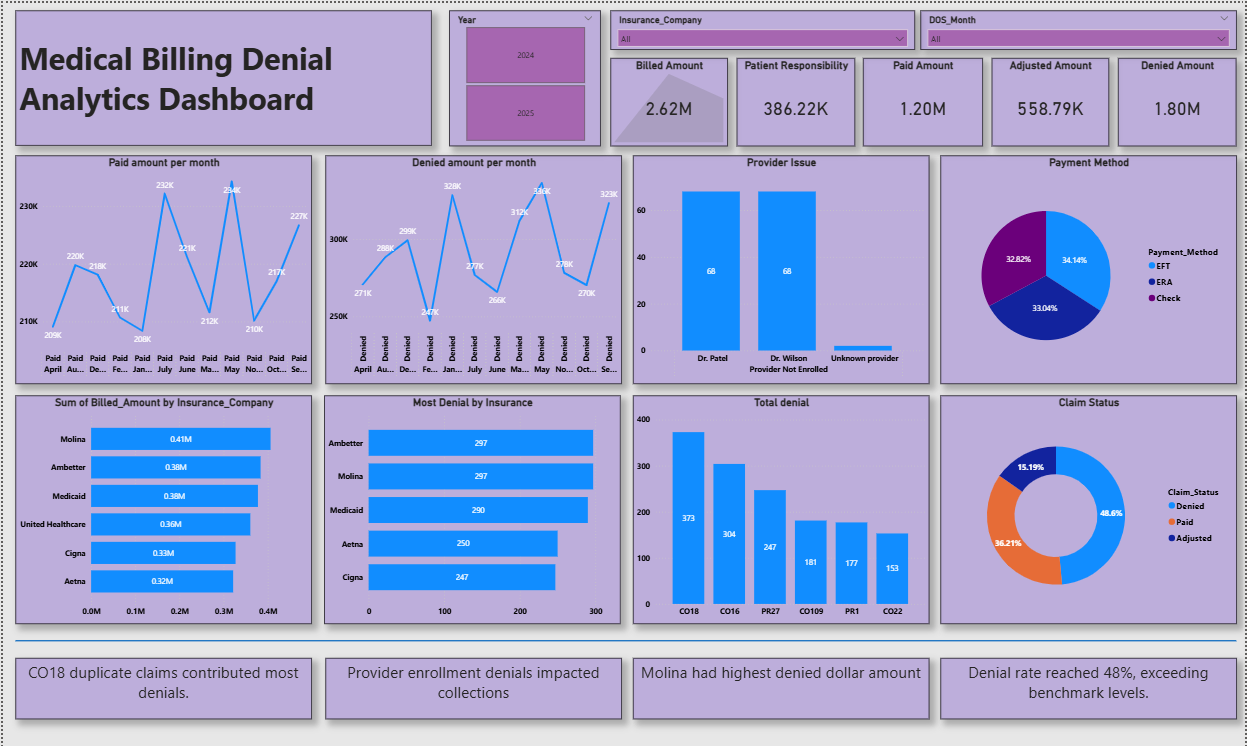

This screenshot's page, from the dashboard's own definition file:
{"tool":"powerbi","page":{"name":"Page 1","canvas":[1950,1170],"ordinal":0},"visuals":[{"type":"donutChart","title":"Claim Status","fields":{"Category":["Sheet1.Claim_Status"],"Y":["CountNonNull(Sheet1.Account_Number)"]},"box":[1470,615,465,358.3],"z":0},{"type":"columnChart","title":"Total denial","fields":{"Y":["CountNonNull(Sheet1.Account_Number)"],"Category":["Sheet1.Denial_Code"]},"box":[988.3,615,465,358.3],"z":1000},{"type":"barChart","title":"Most Denial by Insurance","fields":{"Category":["Sheet1.Insurance_Company"],"Y":["CountNonNull(Sheet1.Denial_Code)"]},"box":[503.3,615,465,358.3],"z":2000},{"type":"pieChart","title":"Payment Method","fields":{"Y":["CountNonNull(Sheet1.Account_Number)"],"Category":["Sheet1.Payment_Method"]},"box":[1470,238.3,465,358.3],"z":3000},{"type":"columnChart","title":"Provider Issue","fields":{"Category":["Sheet1.Denial_Code","Sheet1.Rendering_Provider"],"Y":["CountNonNull(Sheet1.Account_Number)"]},"box":[988.3,238.3,465,358.3],"z":4000},{"type":"kpi","title":"Denied Amount","fields":{"TrendLine":["Sheet1.Claim_Status"],"Indicator":["Sum(Sheet1.Remaining_Balance)"]},"box":[1749,85.7,185.7,138.8],"z":5000},{"type":"kpi","title":"Paid Amount","fields":{"TrendLine":["Sheet1.Paid_Flag"],"Indicator":["Sum(Sheet1.Paid_Amount)"]},"box":[1349,85.7,187.8,138.8],"z":6000},{"type":"lineChart","title":"Denied amount per month","fields":{"Category":["Sheet1.DOS_Month","Sheet1.Claim_Status"],"Y":["Sum(Sheet1.Billed_Amount)"]},"box":[505,238.3,465,358.3],"z":7000},{"type":"slicer","fields":{"Values":["Sheet1.DOS_Year"]},"box":[700,12.5,237.5,212.5],"z":8000},{"type":"barChart","fields":{"Category":["Sheet1.Insurance_Company","Sheet1.Denial_Flag"],"Y":["Sum(Sheet1.Billed_Amount)"]},"box":[20,615,465,358.3],"z":9000},{"type":"lineChart","title":"Paid amount per month","fields":{"Category":["Sheet1.DOS_Month","Sheet1.Claim_Status"],"Y":["Sum(Sheet1.Billed_Amount)"]},"box":[20,238.3,465,358.3],"z":10000},{"type":"kpi","title":"Adjusted Amount","fields":{"TrendLine":["Sheet1.Claim_Status"],"Indicator":["Sum(Sheet1.Remaining_Balance)"]},"box":[1551,85.7,183.7,138.8],"z":11000},{"type":"kpi","title":"Patient Responsibility","fields":{"TrendLine":["Sheet1.Claim_Status"],"Indicator":["Sum(Sheet1.Patient_Responsibility)"]},"box":[1151,85.7,185.7,138.8],"z":12000},{"type":"kpi","title":"Billed Amount","fields":{"TrendLine":["Sheet1.Claim_Status"],"Indicator":["Sum(Sheet1.Billed_Amount)"]},"box":[953.1,85.7,183.7,138.8],"z":13000},{"type":"slicer","fields":{"Values":["Sheet1.Insurance_Company"]},"box":[953.1,12.2,477.6,61.2],"z":14000},{"type":"slicer","fields":{"Values":["Sheet1.DOS_Month"]},"box":[1438.8,12.2,495.9,61.2],"z":15000},{"type":"textbox","box":[20.4,12.2,653.1,212.2],"z":16000},{"type":"shape","box":[20,995,1915,12.5],"z":17000},{"type":"textbox","box":[1470.6,1027.5,464.7,96.1],"z":18000},{"type":"textbox","box":[19.6,1027.5,464.7,96.1],"z":19000},{"type":"textbox","box":[988.2,1027.5,464.7,96.1],"z":20000},{"type":"textbox","box":[505.9,1027.5,464.7,96.1],"z":21000}]}

Visuals, with their boxes in screenshot pixels (x1, y1, x2, y2), scaled from the page's 1950x1170 canvas onto the 1247x746 screenshot:
"Claim Status" donutChart: pyautogui.locateOnScreen(940, 392, 1237, 621)
"Total denial" columnChart: pyautogui.locateOnScreen(632, 392, 929, 621)
"Most Denial by Insurance" barChart: pyautogui.locateOnScreen(322, 392, 619, 621)
"Payment Method" pieChart: pyautogui.locateOnScreen(940, 152, 1237, 380)
"Provider Issue" columnChart: pyautogui.locateOnScreen(632, 152, 929, 380)
"Denied Amount" kpi: pyautogui.locateOnScreen(1118, 55, 1237, 143)
"Paid Amount" kpi: pyautogui.locateOnScreen(863, 55, 983, 143)
"Denied amount per month" lineChart: pyautogui.locateOnScreen(323, 152, 620, 380)
slicer - Sheet1.DOS_Year: pyautogui.locateOnScreen(448, 8, 600, 143)
barChart - Sheet1.Insurance_Company x Sheet1.Denial_Flag: pyautogui.locateOnScreen(13, 392, 310, 621)
"Paid amount per month" lineChart: pyautogui.locateOnScreen(13, 152, 310, 380)
"Adjusted Amount" kpi: pyautogui.locateOnScreen(992, 55, 1109, 143)
"Patient Responsibility" kpi: pyautogui.locateOnScreen(736, 55, 855, 143)
"Billed Amount" kpi: pyautogui.locateOnScreen(609, 55, 727, 143)
slicer - Sheet1.Insurance_Company: pyautogui.locateOnScreen(609, 8, 915, 47)
slicer - Sheet1.DOS_Month: pyautogui.locateOnScreen(920, 8, 1237, 47)
textbox: pyautogui.locateOnScreen(13, 8, 431, 143)
shape: pyautogui.locateOnScreen(13, 634, 1237, 642)
textbox: pyautogui.locateOnScreen(940, 655, 1238, 716)
textbox: pyautogui.locateOnScreen(13, 655, 310, 716)
textbox: pyautogui.locateOnScreen(632, 655, 929, 716)
textbox: pyautogui.locateOnScreen(324, 655, 621, 716)
